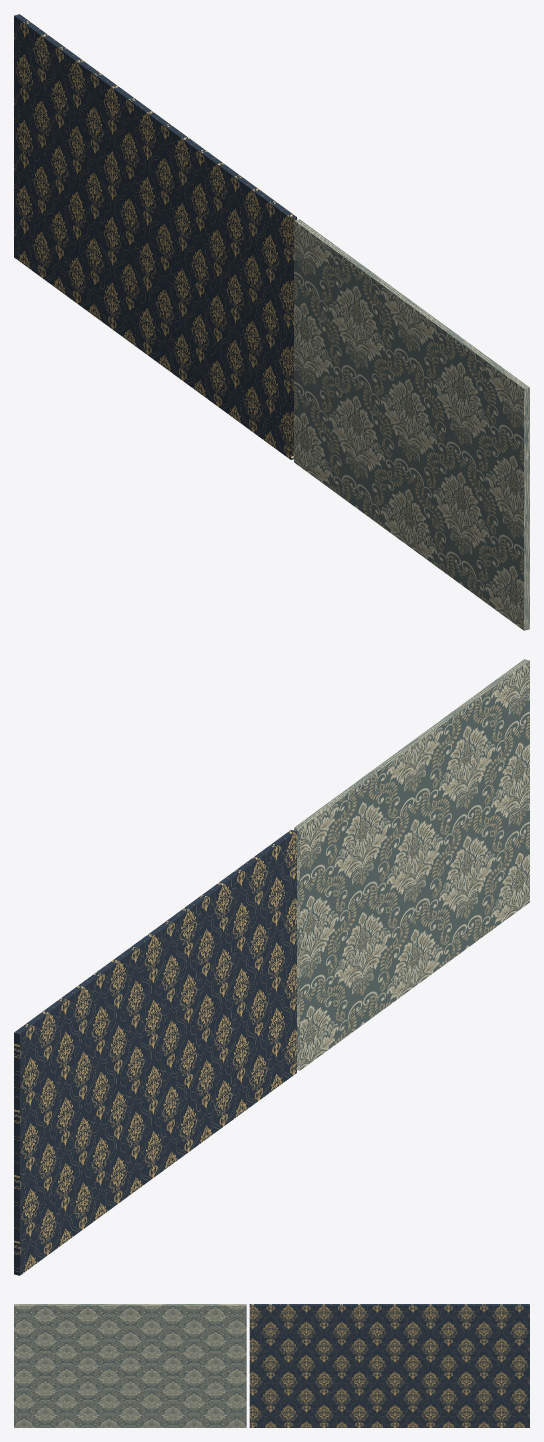
File: Switch of Wallpapers.fbx
3 views of the same model, one above another, from view 1: azimuth 30°, elevation 25°; view 2: azimuth 150°, elevation 25°; view 3: azimuth 270°, elevation 25° (orthographic). The views are drawn at different scales.
Visible parts, largest first — view 1: polySurface595, polySurface594; view 2: polySurface595, polySurface594; view 3: polySurface595, polySurface594.
Boxes of the visible parts, x1,y1,x2,y2 form: polySurface595: (14, 14, 296, 459); polySurface594: (294, 219, 529, 630); polySurface595: (14, 830, 296, 1275); polySurface594: (294, 659, 529, 1070); polySurface595: (249, 1304, 529, 1427); polySurface594: (14, 1304, 246, 1427).
Bounding box in the file's own units: 13.06 × 516 × 1973.
